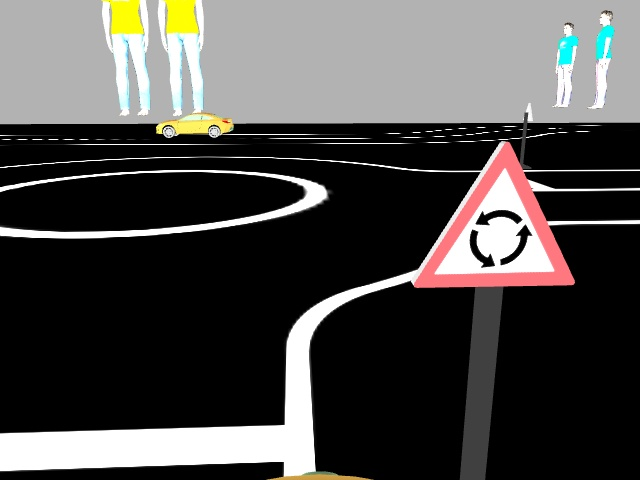Roundabout: (412, 142, 575, 289)
